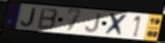1: (132, 15, 142, 38)
7: (63, 8, 83, 34)
B: (36, 7, 60, 31)
J: (84, 13, 103, 34), (20, 7, 37, 28)
X: (103, 13, 130, 38)
